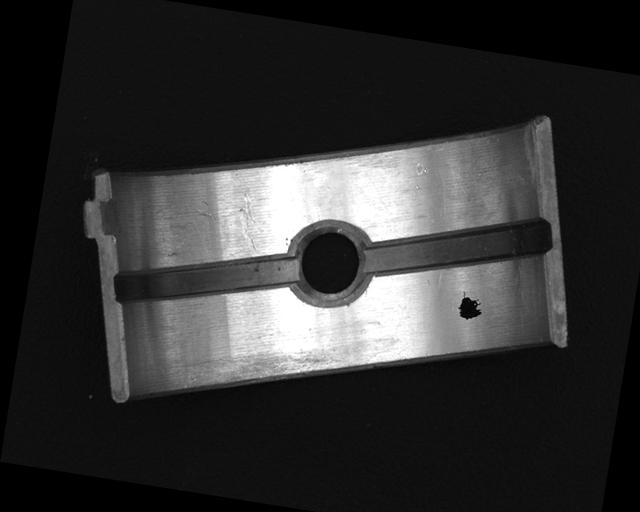blot: (454, 290, 486, 323)
bruise: (194, 197, 220, 221), (412, 159, 428, 177)
gap: (360, 194, 551, 302), (109, 230, 300, 328)
hole: (282, 214, 377, 315)
nick: (231, 191, 266, 257)
scratch: (178, 327, 345, 413)
